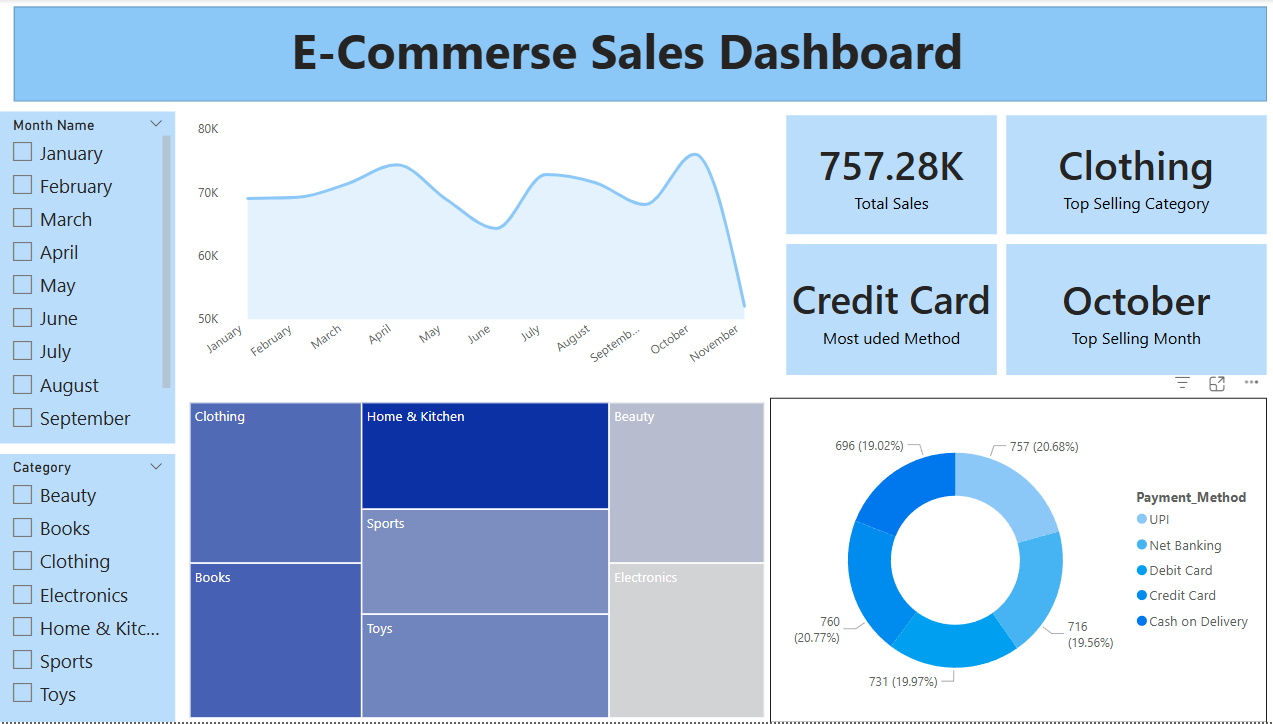

This screenshot's page, from the dashboard's own definition file:
{"tool":"powerbi","page":{"name":"Page 1","canvas":[1280,720],"ordinal":0},"visuals":[{"type":"slicer","fields":{"Values":["ecommerce_dataset_updated.Category"]},"box":[0,452.8,174.3,267.6],"z":0},{"type":"lineChart","fields":{"Category":["ecommerce_dataset_updated.Month Name"],"Y":["Sum(ecommerce_dataset_updated.Final_Price)"]},"box":[183.9,115.3,581.8,259.3],"z":1000},{"type":"donutChart","fields":{"Series":["ecommerce_dataset_updated.Payment_Method"],"Y":["CountNonNull(ecommerce_dataset_updated.Payment_Method)"]},"box":[765.7,396.6,495.4,323.8],"z":2000},{"type":"card","fields":{"Values":["Min(ecommerce_dataset_updated.Category)"]},"box":[1001.7,115.3,259.3,118],"z":3000},{"type":"card","fields":{"Values":["Sum(ecommerce_dataset_updated.Final_Price)"]},"box":[782.2,115.3,209.9,118],"z":4000},{"type":"shape","box":[13.7,6.9,1247.3,94.7],"z":5000},{"type":"textbox","box":[285.4,12.3,749.2,89.2],"z":6000},{"type":"treemap","fields":{"Group":["ecommerce_dataset_updated.Category"],"Values":["Sum(ecommerce_dataset_updated.Final_Price)"]},"box":[183.9,396.6,581.8,323.8],"z":7000},{"type":"slicer","fields":{"Values":["ecommerce_dataset_updated.Month Name"]},"box":[0,112.5,174.3,330.7],"z":8000},{"type":"card","fields":{"Values":["Min(ecommerce_dataset_updated.Payment_Method)"]},"box":[782.2,244.3,209.9,130.4],"z":9000},{"type":"card","fields":{"Values":["Min(ecommerce_dataset_updated.Month Name)"]},"box":[1001.7,244.3,259.3,130.4],"z":10000}]}

Visuals, with their boxes on the page's 1280x720 design canvas (x1, y1, x2, y2). These are canvas units, not pixel positions in the 1273x724 screenshot, which may show the page scaled, cropped or inside an application window:
slicer - ecommerce_dataset_updated.Category: [x1=0, y1=453, x2=174, y2=720]
lineChart - ecommerce_dataset_updated.Month Name x Sum(ecommerce_dataset_updated.Final_Price): [x1=184, y1=115, x2=766, y2=375]
donutChart - ecommerce_dataset_updated.Payment_Method x CountNonNull(ecommerce_dataset_updated.Payment_Method): [x1=766, y1=397, x2=1261, y2=720]
card - Min(ecommerce_dataset_updated.Category): [x1=1002, y1=115, x2=1261, y2=233]
card - Sum(ecommerce_dataset_updated.Final_Price): [x1=782, y1=115, x2=992, y2=233]
shape: [x1=14, y1=7, x2=1261, y2=102]
textbox: [x1=285, y1=12, x2=1035, y2=102]
treemap - ecommerce_dataset_updated.Category x Sum(ecommerce_dataset_updated.Final_Price): [x1=184, y1=397, x2=766, y2=720]
slicer - ecommerce_dataset_updated.Month Name: [x1=0, y1=112, x2=174, y2=443]
card - Min(ecommerce_dataset_updated.Payment_Method): [x1=782, y1=244, x2=992, y2=375]
card - Min(ecommerce_dataset_updated.Month Name): [x1=1002, y1=244, x2=1261, y2=375]
